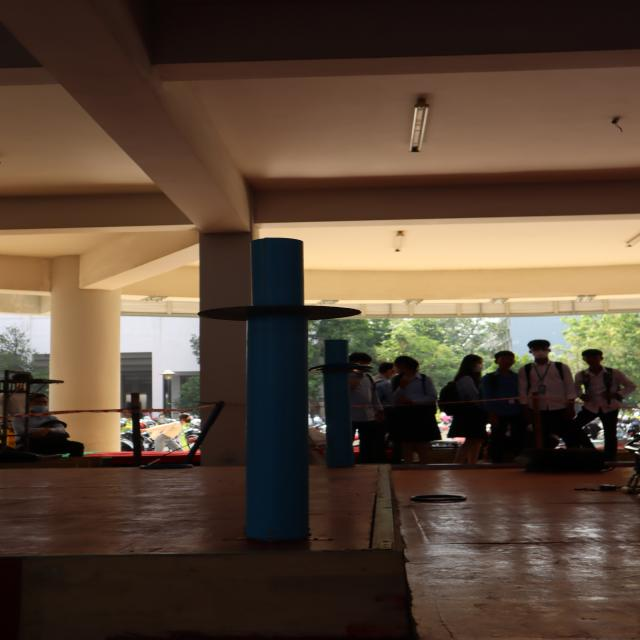pole: (200, 234, 364, 398)
